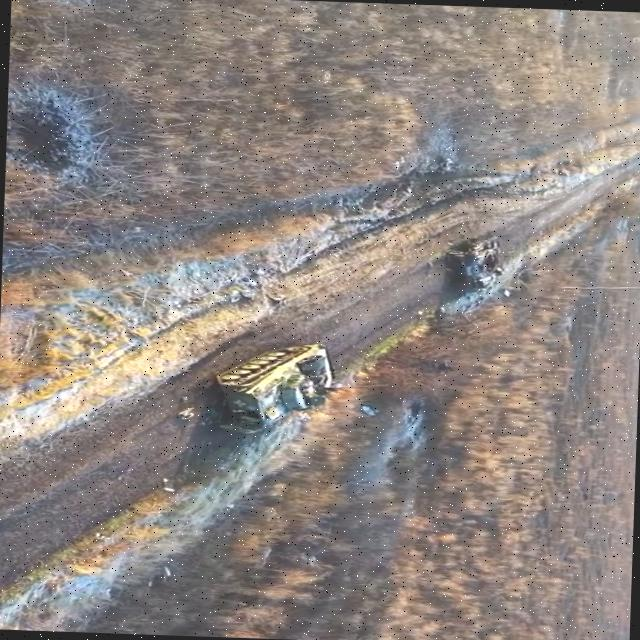AIFV: (217, 339, 342, 437)
Destroyed: (447, 235, 502, 295)
